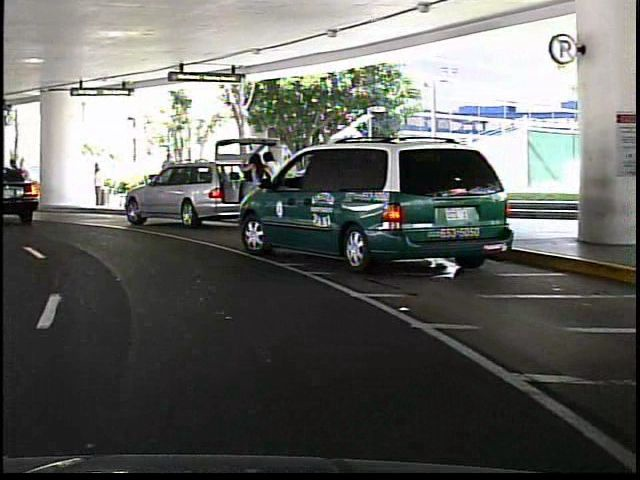person: (243, 148, 263, 226), (156, 148, 175, 204)
